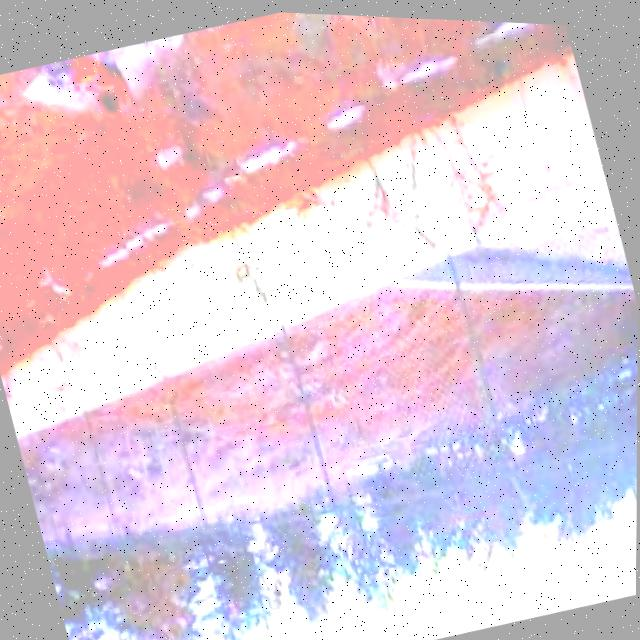Fire: (51, 44, 138, 134)
